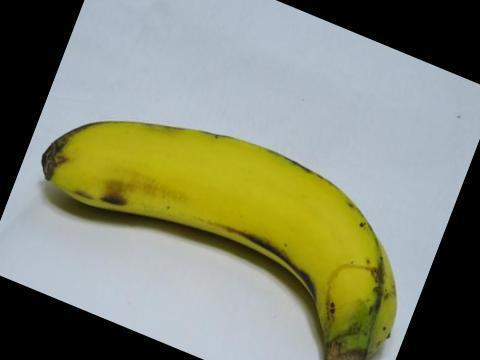freshripe: (35, 104, 423, 359)
